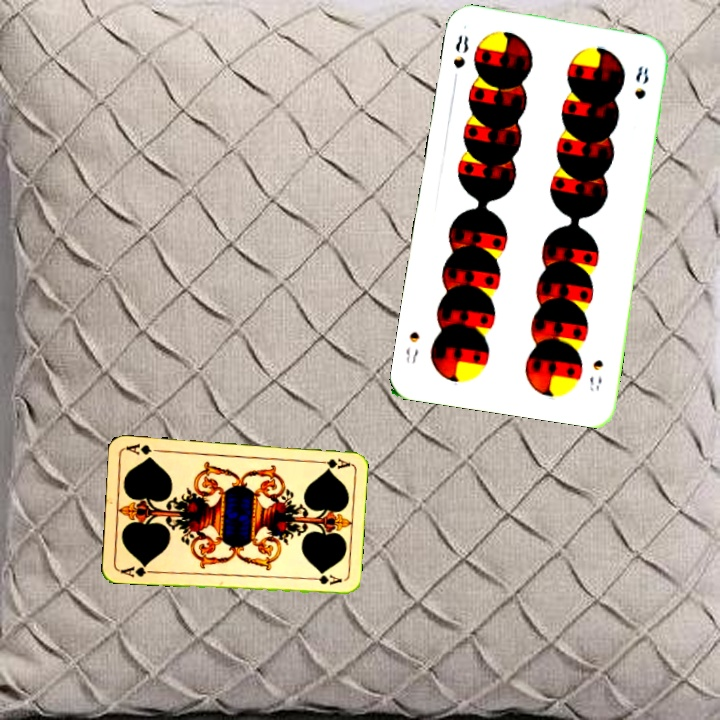GA: (116, 560, 157, 580), (311, 454, 352, 471)
S8: (449, 31, 471, 71), (585, 355, 606, 394)
